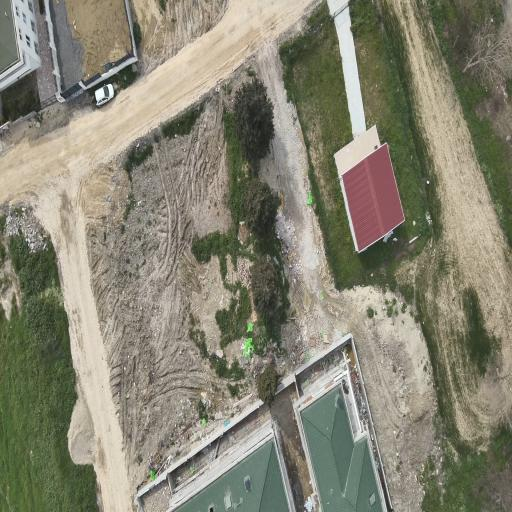car: (95, 83, 114, 105)
